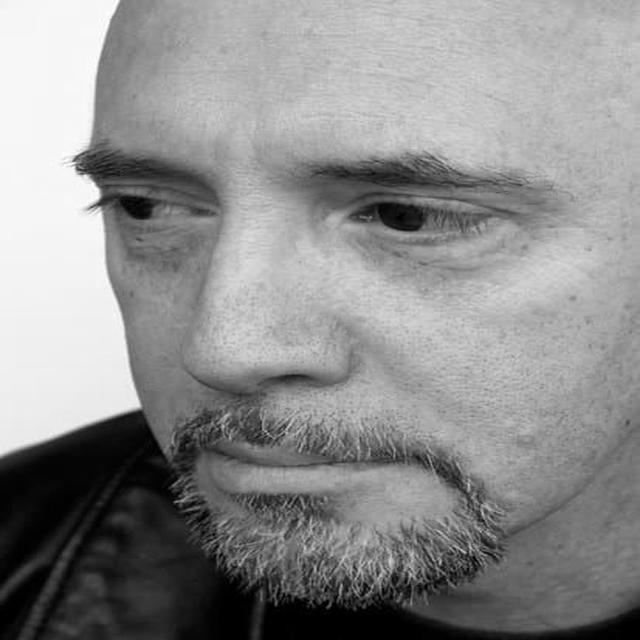Sadness: (79, 0, 640, 601)
